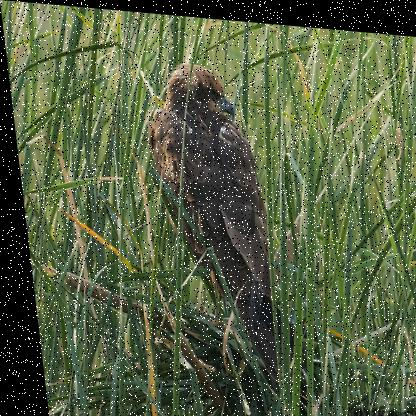Burung: (136, 55, 294, 375)
